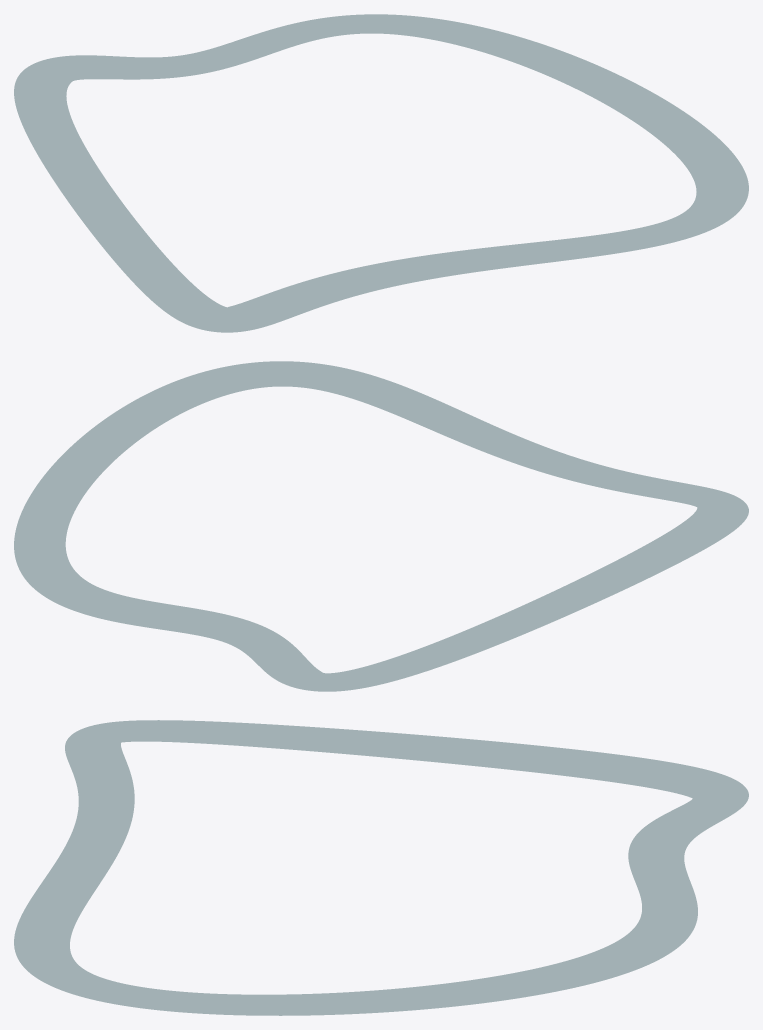
Rendered from road_collision.glb.
3 renders of one model, top to bottom at view 1: azimuth 30°, elevation 25°; view 2: azimuth 150°, elevation 25°; view 3: azimuth 270°, elevation 25°, orthographic. The views are drawn at different scales.
Bounding box in the file's own units: 273 × 4.82 × 279.
